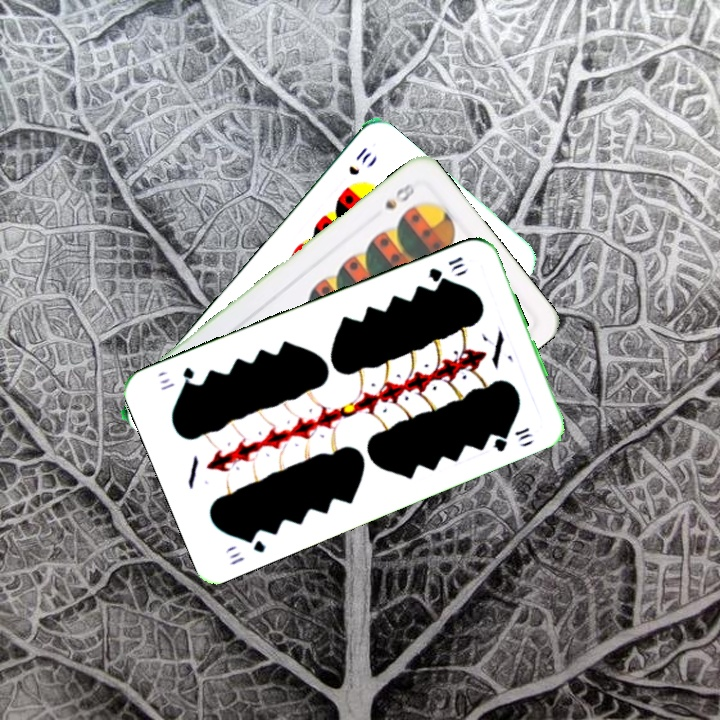G10: (225, 530, 269, 568), (424, 252, 466, 285)
S10: (344, 143, 375, 179)
S8: (380, 178, 418, 213)
